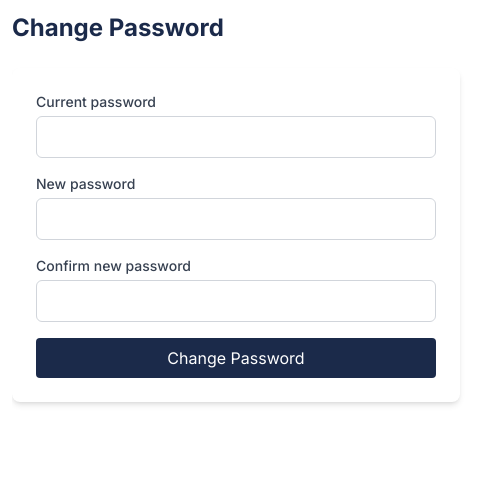
Admin change-password page (/admin/change-password) › posts to /api/auth/change-password and shows success on ok
The width and height of the screenshot is (478, 485).
Type "old-pass-123" into the password field labelled "Current password".
click(236, 137); type("old-pass-123")  # box [36,116,436,158]
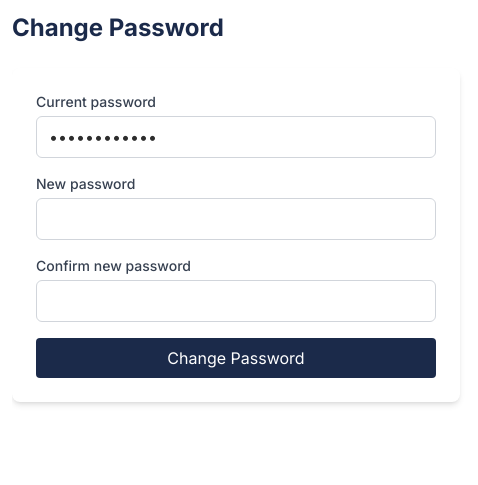
Type "new-pass-123" into the password field labelled "New password".
click(236, 219); type("new-pass-123")  # box [36,198,436,240]
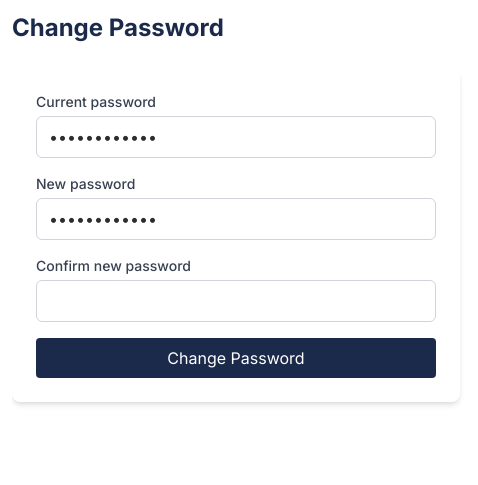
Type "new-pass-123" into the password field labelled "Confirm new password".
click(236, 301); type("new-pass-123")  # box [36,280,436,322]
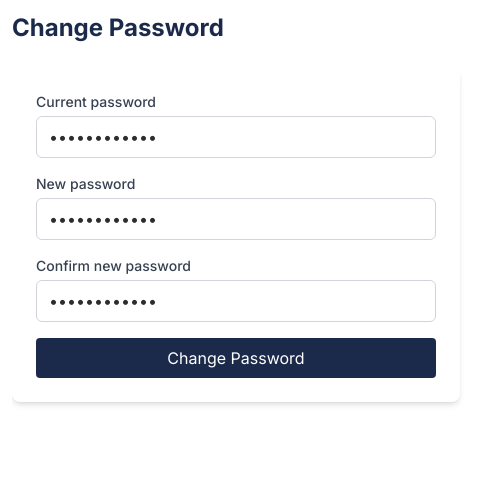
Click the button "Change Password".
click(236, 358)  # box [36,338,436,378]
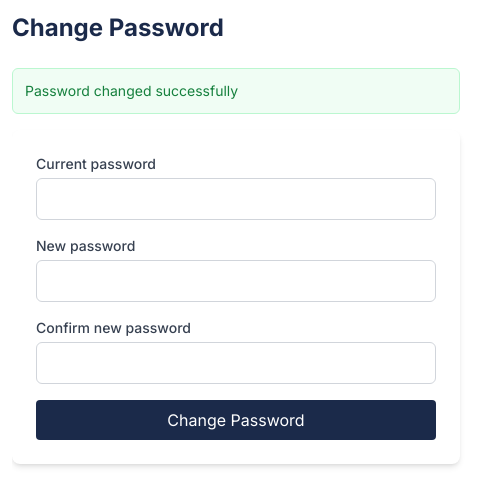
Now the text "Password changed successfully" is shown, box [12,68,460,114]
